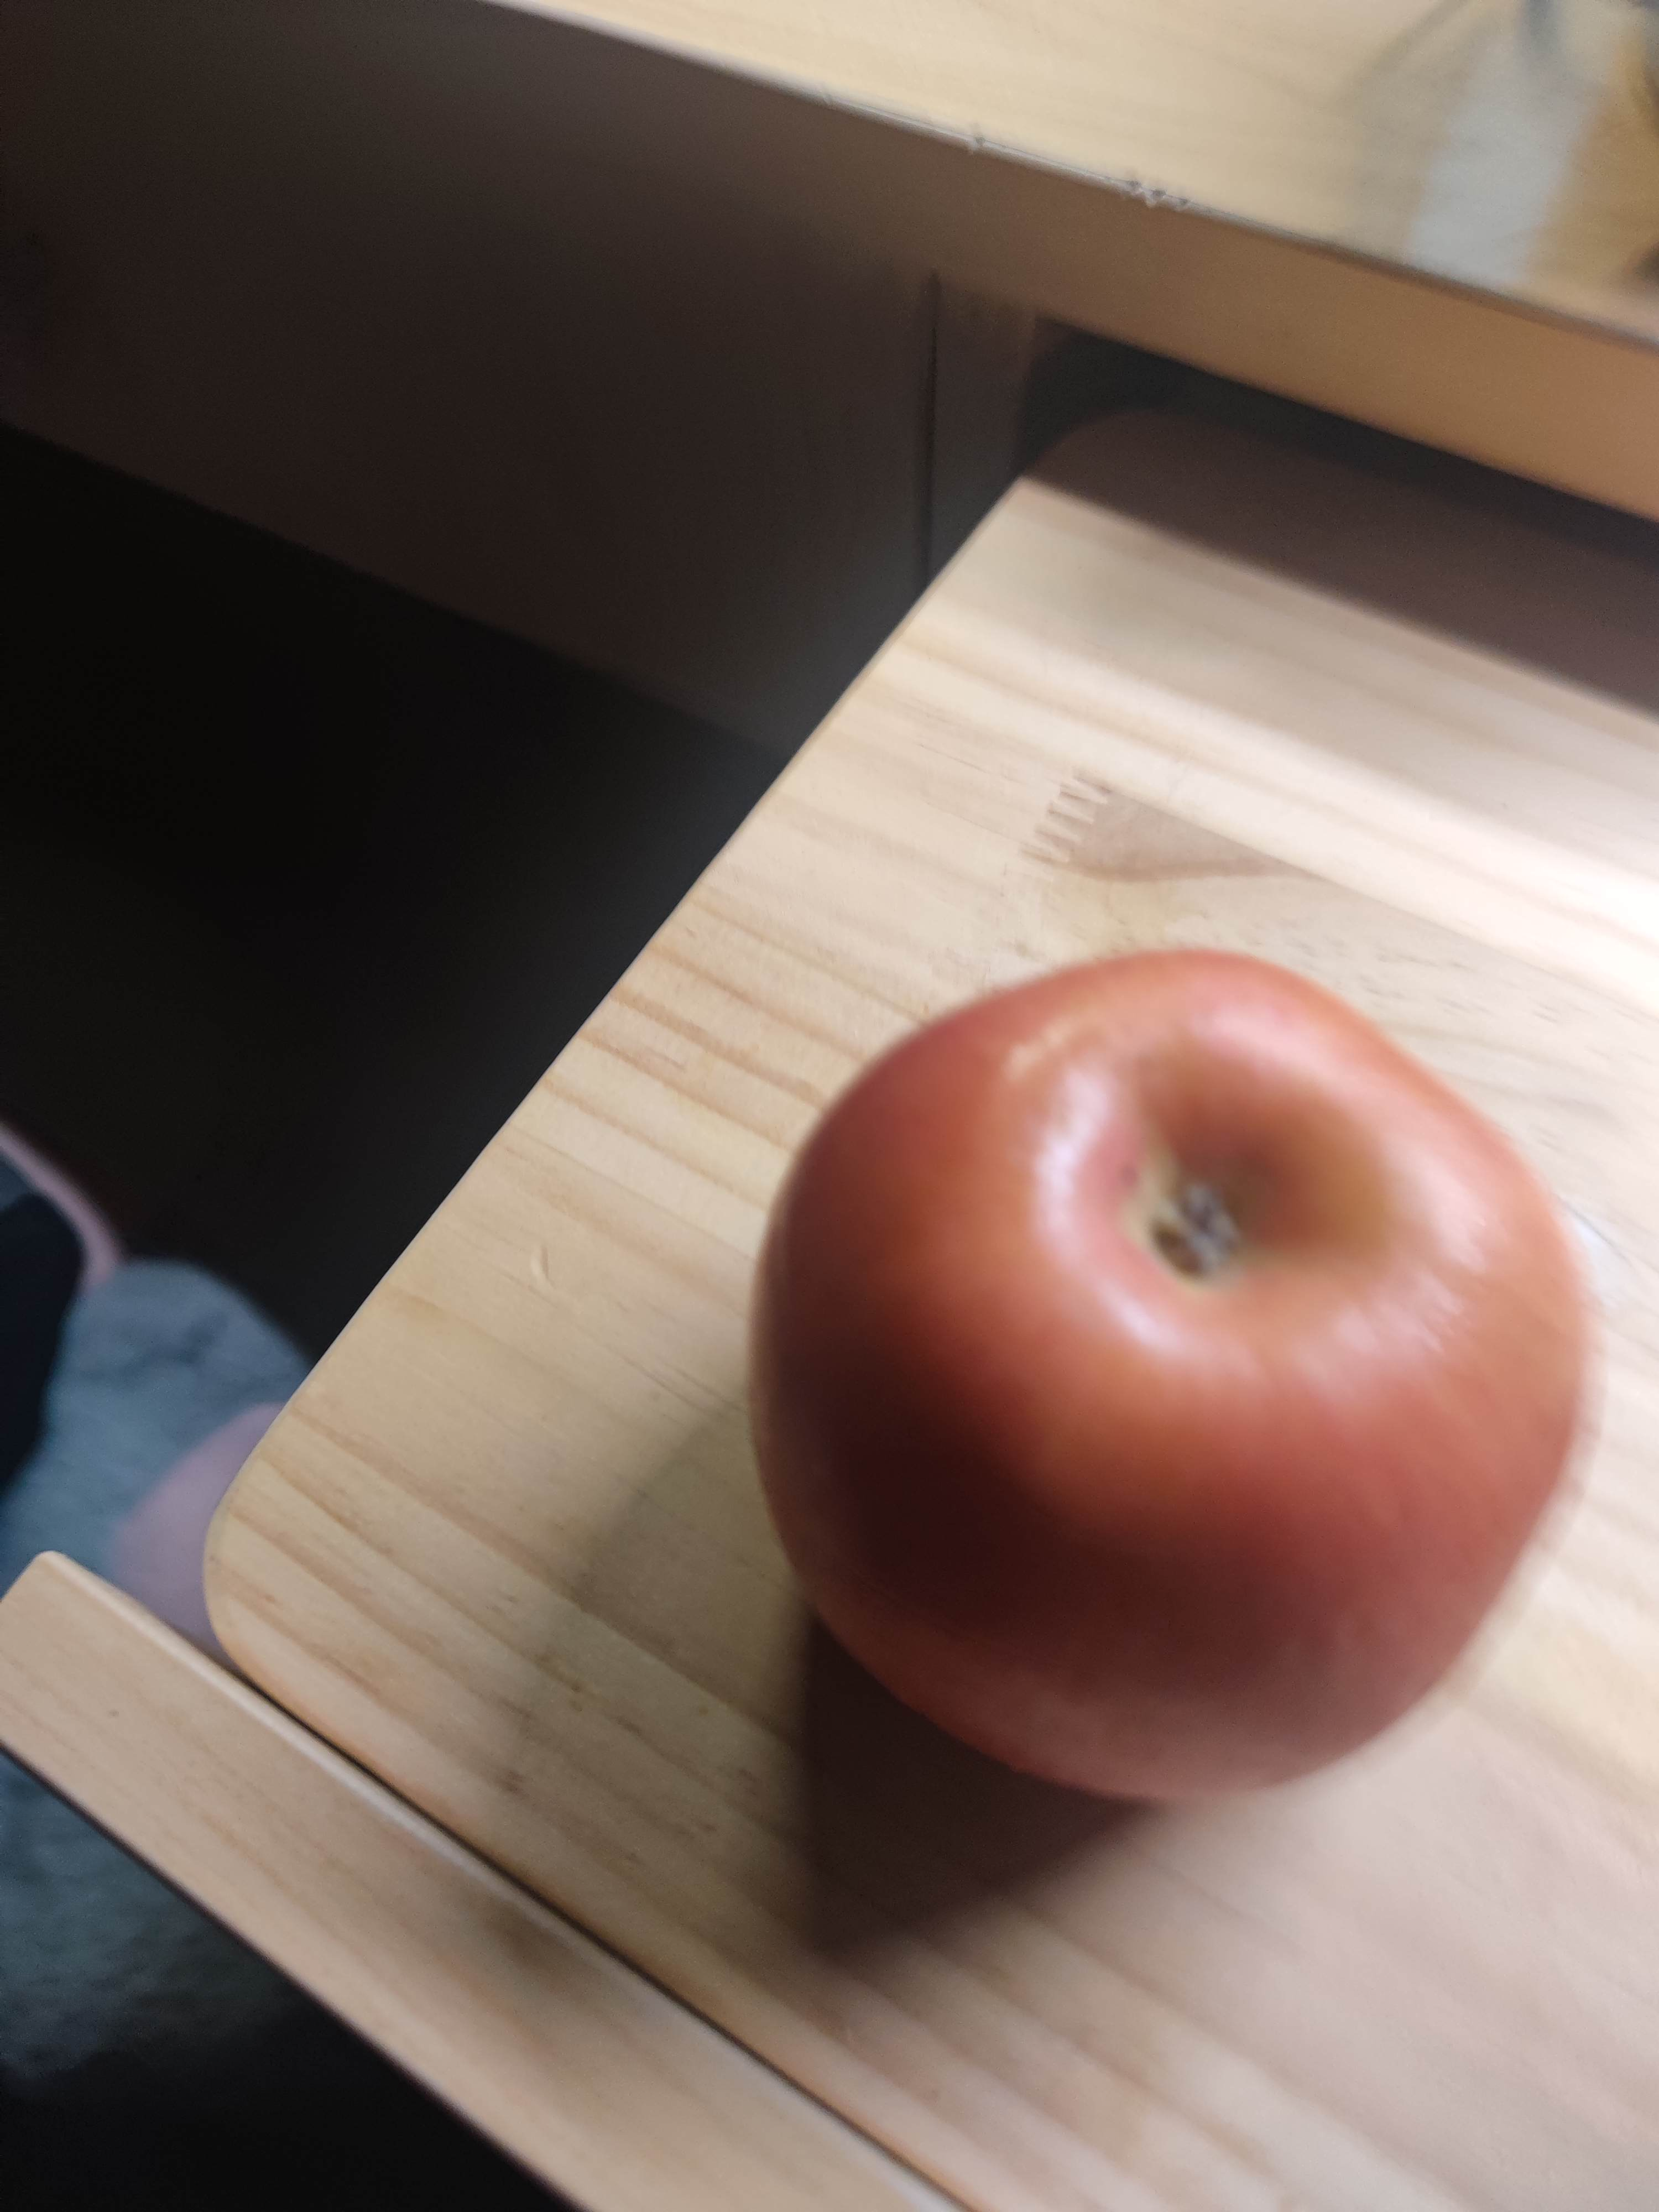apple: (741, 951, 1601, 1829)
